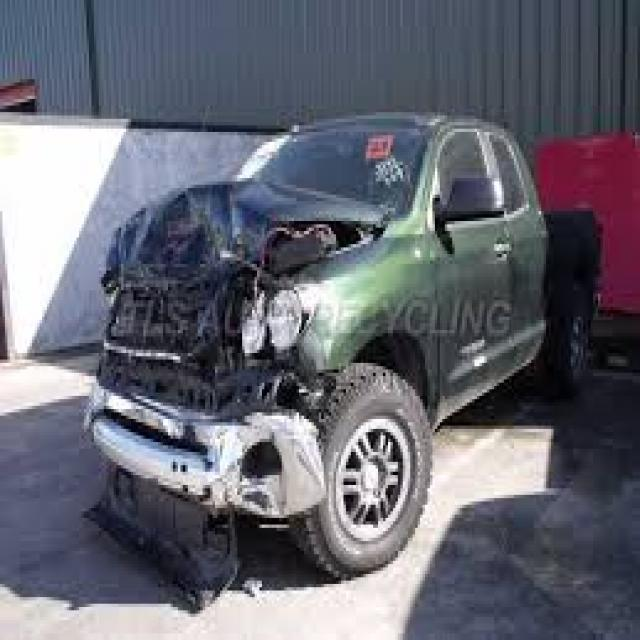severe: (90, 77, 342, 600)
